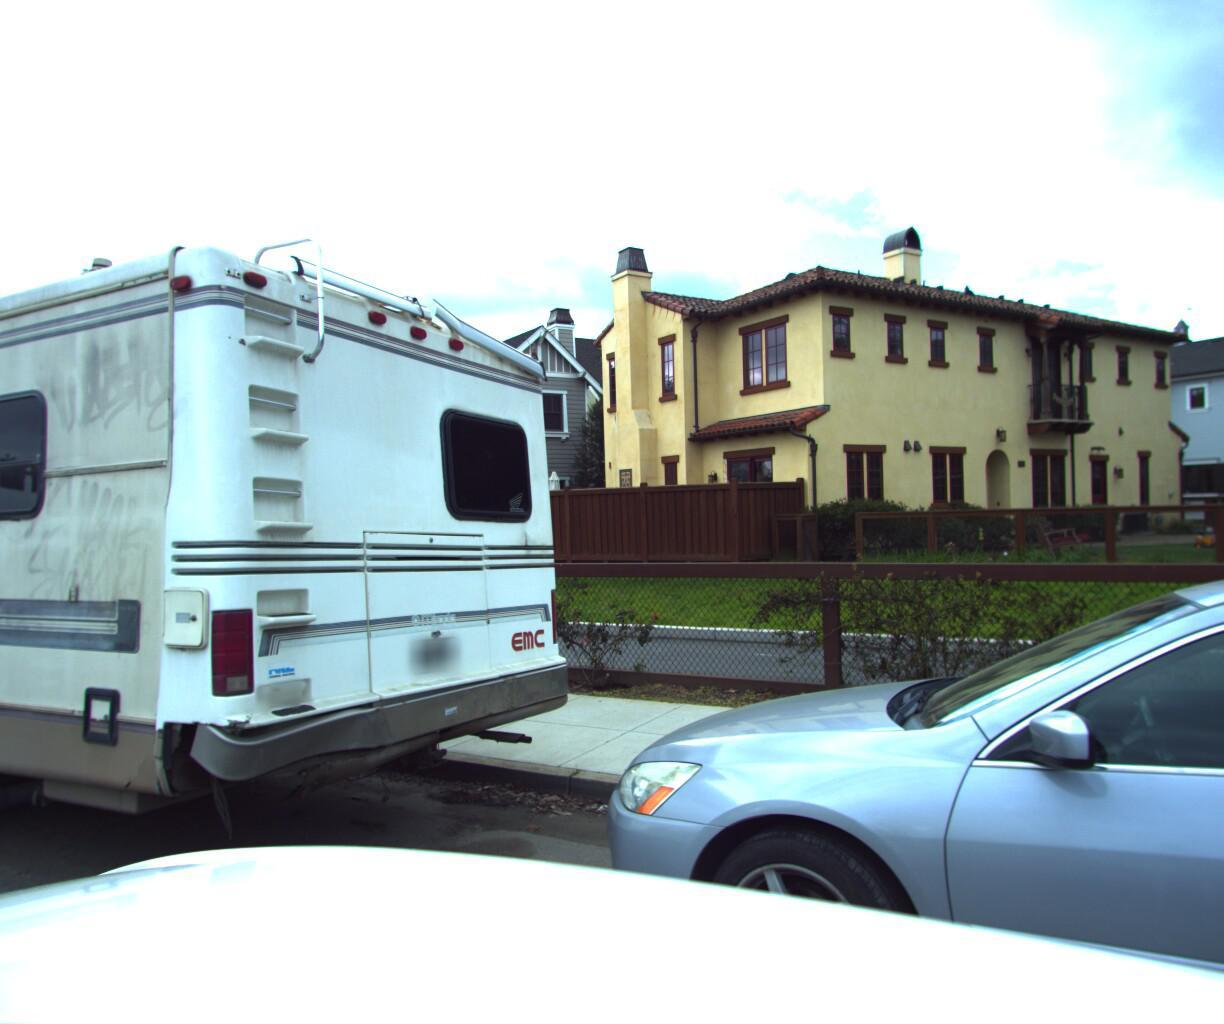car: (496, 546, 1224, 1024)
other_vehicle: (0, 138, 597, 1010)
